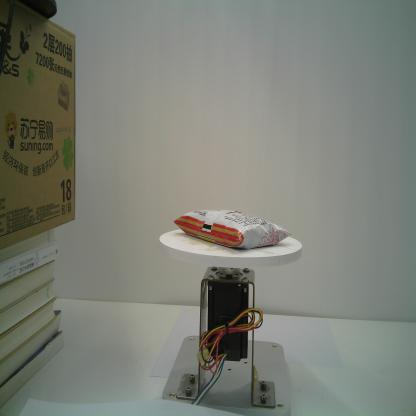Seasoner: (171, 203, 292, 252)
